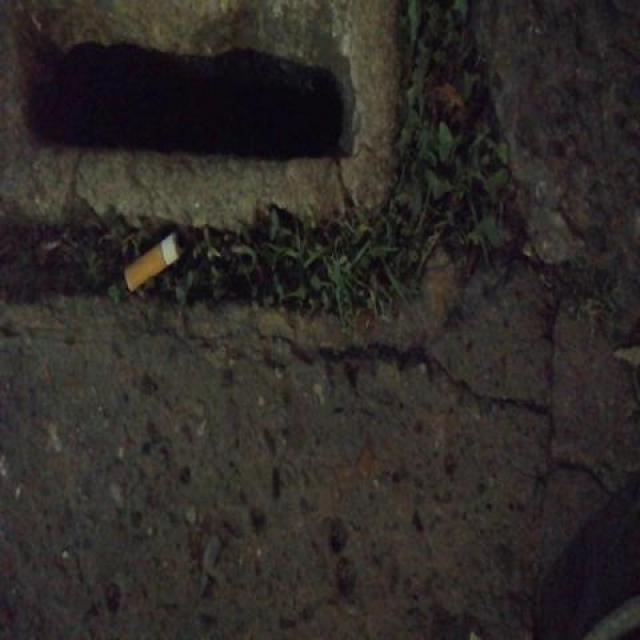non-organic waste: (120, 226, 189, 297)
